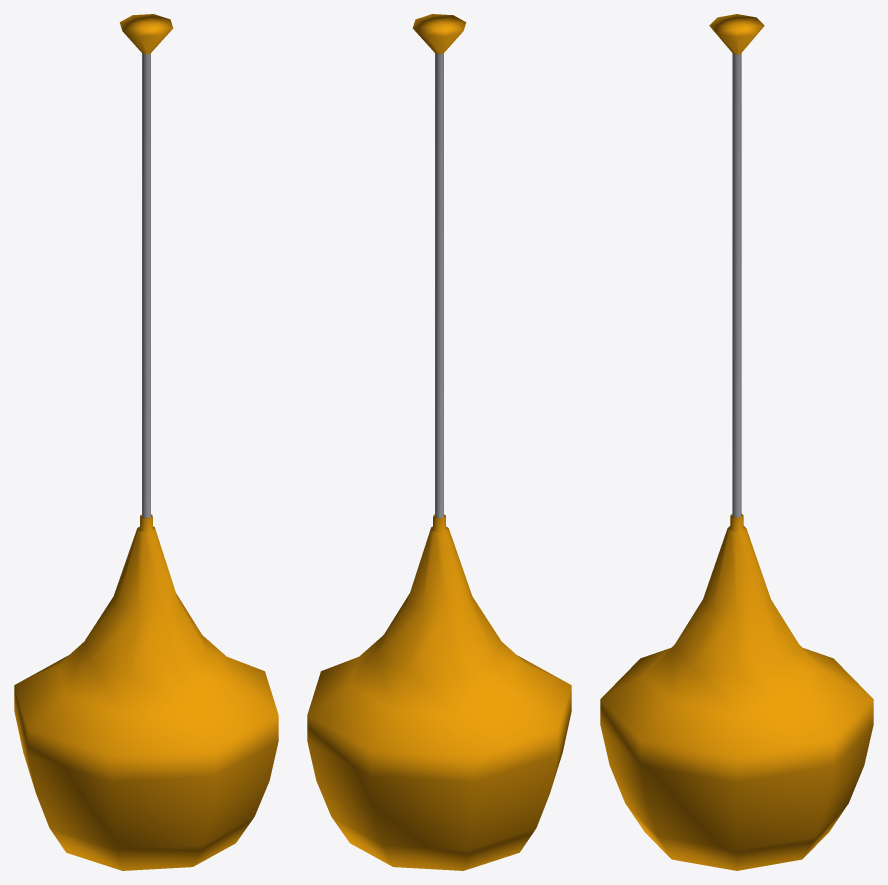
File: Chandelier.fbx
The picture shows the model from 3 angles, left to right: view 1: azimuth 30°, elevation 25°; view 2: azimuth 150°, elevation 25°; view 3: azimuth 270°, elevation 25°; orthographic projection.
Visible parts, largest first — view 1: chadelier; view 2: chadelier; view 3: chadelier.
Part boxes in pixels (<box>): chadelier: <box>14,14,278,870</box>; chadelier: <box>307,14,571,870</box>; chadelier: <box>600,14,873,870</box>.
Bounding box in the file's own units: 51.26 × 167 × 51.26.
